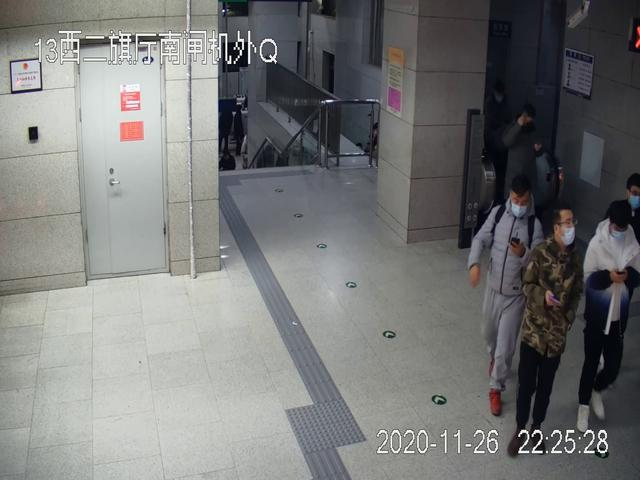person: (506, 210, 584, 459), (468, 172, 542, 417), (578, 201, 640, 432)
